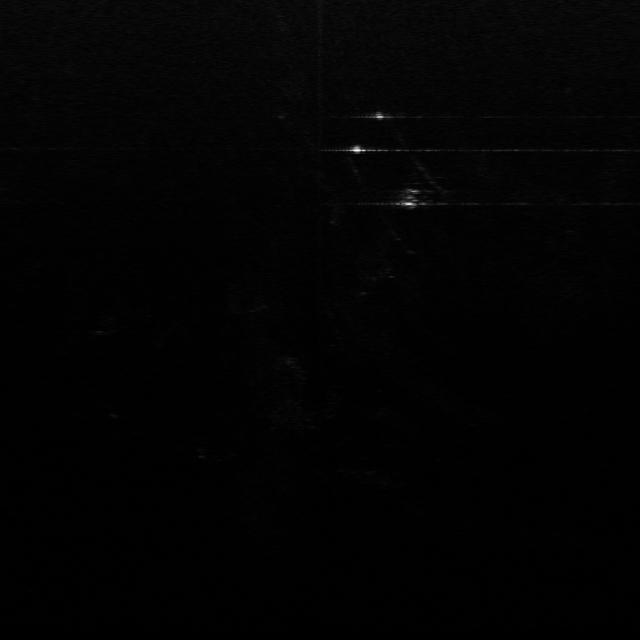rov: (392, 187, 428, 210)
